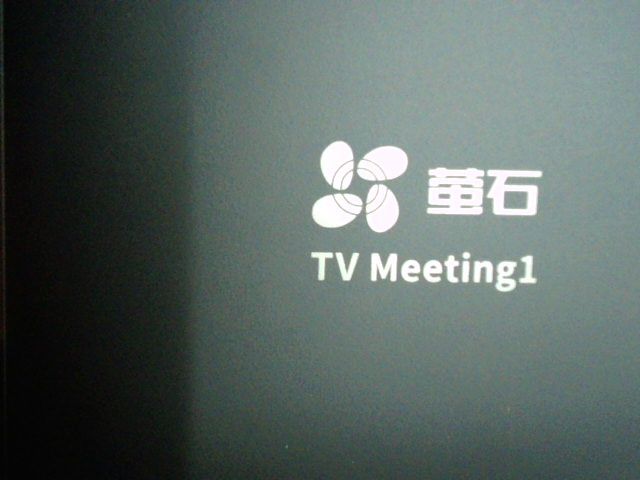BA_Yingshi: (306, 136, 546, 296)
